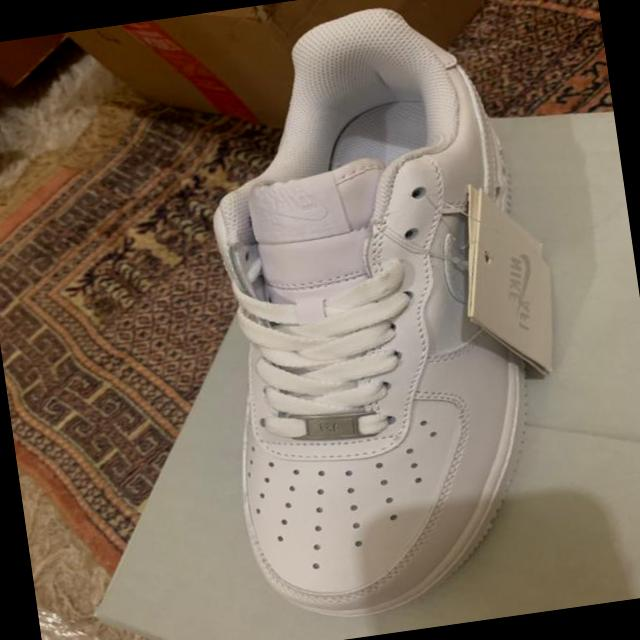nike_original_airforce: (170, 0, 577, 633)
